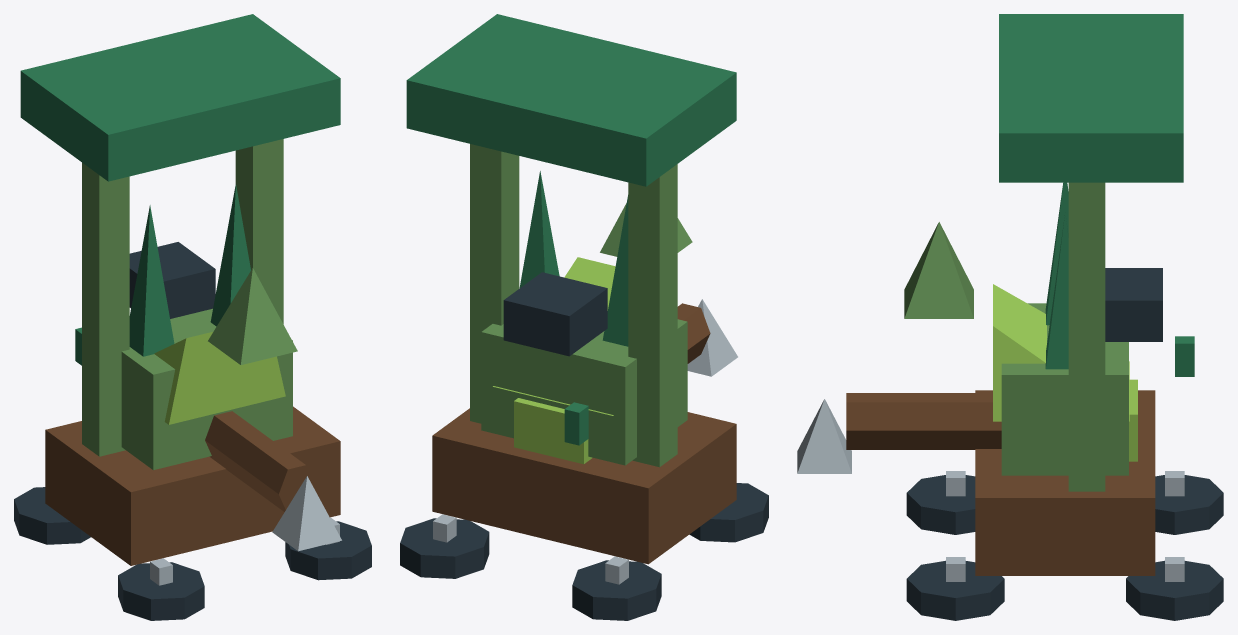
The model's file is siege-tower.obj.
The picture shows the model from 3 angles, left to right: view 1: azimuth 30°, elevation 25°; view 2: azimuth 150°, elevation 25°; view 3: azimuth 270°, elevation 25°; orthographic projection. The views are drawn at different scales.
Visible parts, largest first — view 1: siege; view 2: siege; view 3: siege.
Part boxes in pixels (left/top/right/bottom): siege: left=14, top=14, right=371, bottom=620; siege: left=400, top=14, right=768, bottom=620; siege: left=797, top=14, right=1223, bottom=620.
Bounding box in the file's own units: 1.36 × 2.46 × 1.96.
